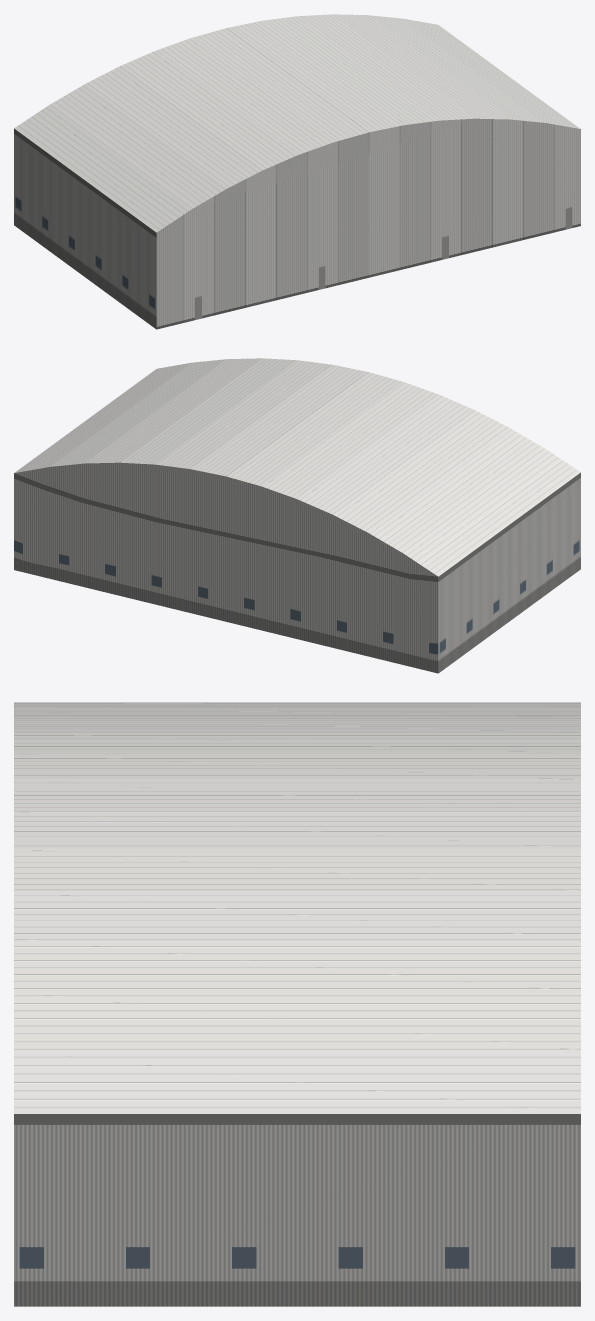
Rendered from khua_hangar_55x32.glb.
3 renders of one model, top to bottom at view 1: azimuth 30°, elevation 25°; view 2: azimuth 150°, elevation 25°; view 3: azimuth 270°, elevation 25°, orthographic. The views are drawn at different scales.
Visible parts, largest first — view 1: khua_hangar_55x32_hangar_roof, khua_hangar_55x32_hangar_door, khua_hangar_55x32_hangar_wall; view 2: khua_hangar_55x32_hangar_wall, khua_hangar_55x32_hangar_roof; view 3: khua_hangar_55x32_hangar_roof, khua_hangar_55x32_hangar_wall.
Part boxes in pixels (x1,y1,x2,y2): khua_hangar_55x32_hangar_roof: [14, 14, 580, 232]; khua_hangar_55x32_hangar_door: [156, 118, 580, 329]; khua_hangar_55x32_hangar_wall: [14, 128, 156, 329]; khua_hangar_55x32_hangar_wall: [14, 462, 580, 673]; khua_hangar_55x32_hangar_roof: [14, 358, 580, 576]; khua_hangar_55x32_hangar_roof: [14, 702, 580, 1113]; khua_hangar_55x32_hangar_wall: [14, 1114, 580, 1306].
Bounding box in the file's own units: 55 × 18 × 32.
3 materials, 3 textured.
